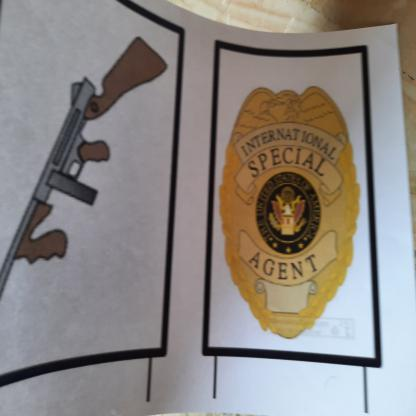Bootlegger: (1, 32, 173, 349)
G-man: (214, 80, 364, 346)
